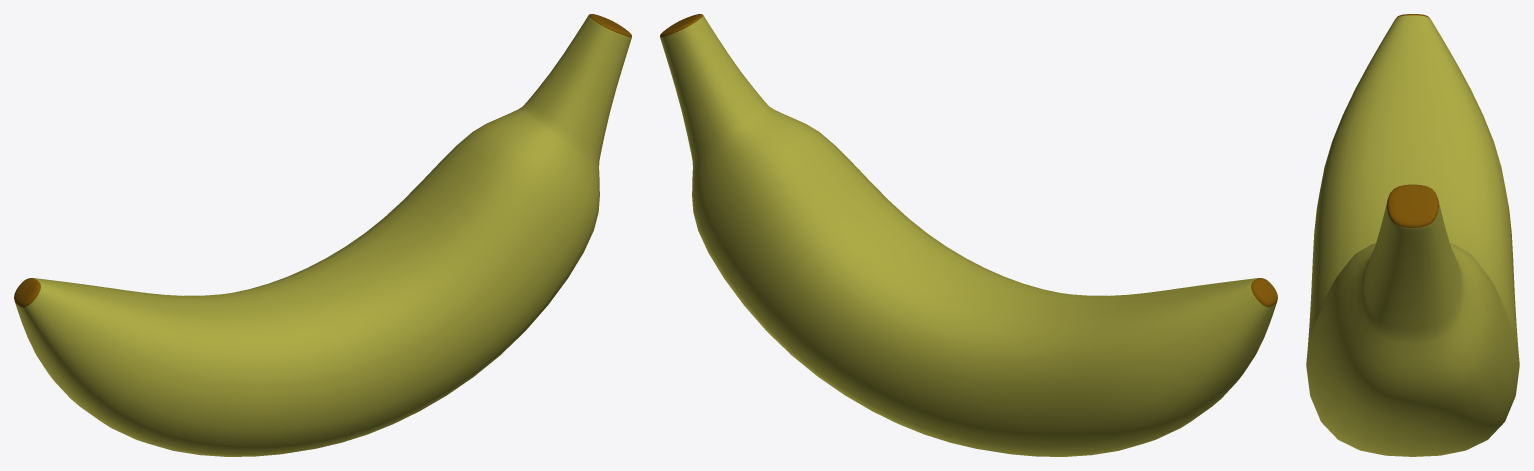
The model's file is Banana.fbx.
The picture shows the model from 3 angles, left to right: view 1: azimuth 30°, elevation 25°; view 2: azimuth 150°, elevation 25°; view 3: azimuth 270°, elevation 25°; orthographic projection. The views are drawn at different scales.
Visible parts, largest first — view 1: Banana; view 2: Banana; view 3: Banana.
Boxes of the visible parts, left/top/right/bottom form: Banana: left=14, top=14, right=631, bottom=456; Banana: left=660, top=14, right=1277, bottom=456; Banana: left=1306, top=14, right=1519, bottom=456.
Size of the model in its own units: 225 by 121 by 59.28.
